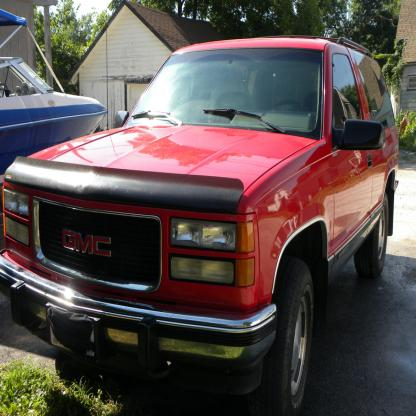Car: (1, 1, 400, 416)
